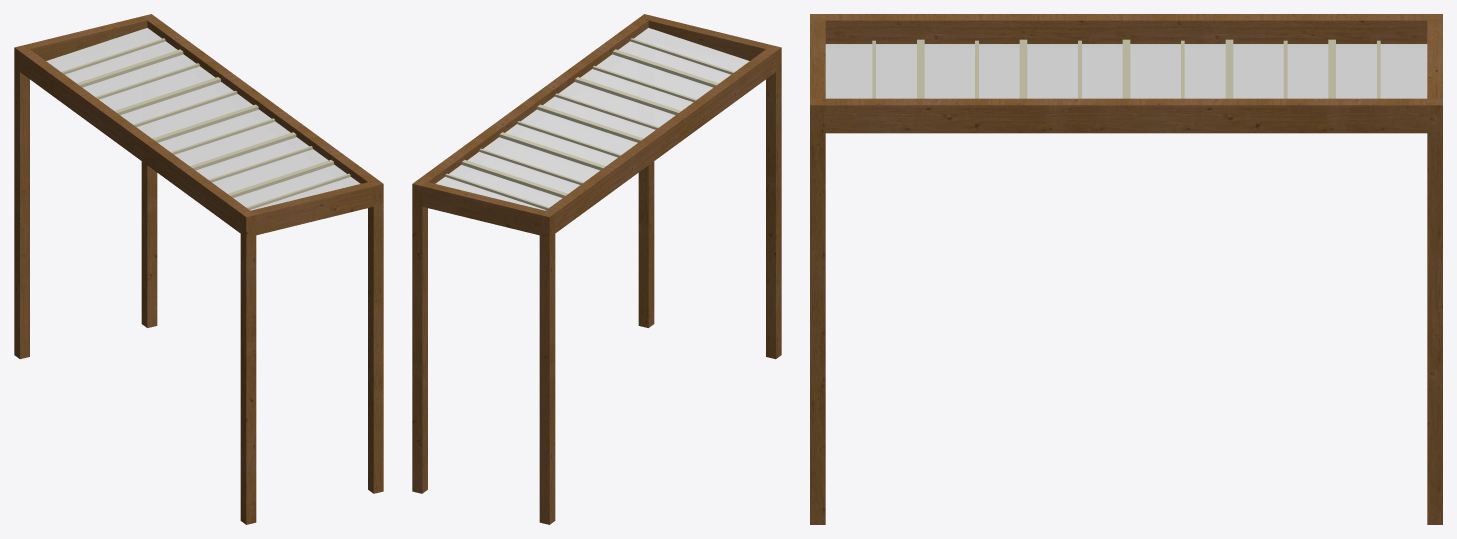
File: hyr-single_h30-w13-l40_naturalpine.fbx
3 renders of one model, left to right at view 1: azimuth 30°, elevation 25°; view 2: azimuth 150°, elevation 25°; view 3: azimuth 270°, elevation 25°, orthographic. The views are drawn at different scales.
Visible parts, largest first — view 1: hyr-single_h30-w13-l40_naturalpine; view 2: hyr-single_h30-w13-l40_naturalpine; view 3: hyr-single_h30-w13-l40_naturalpine.
Boxes of the visible parts, left/top/right/bottom form: hyr-single_h30-w13-l40_naturalpine: left=14, top=14, right=383, bottom=524; hyr-single_h30-w13-l40_naturalpine: left=412, top=14, right=781, bottom=524; hyr-single_h30-w13-l40_naturalpine: left=810, top=14, right=1442, bottom=524.
Size of the model in its own units: 140 by 300 by 410.
Materials: 3 (2 with a texture image).
